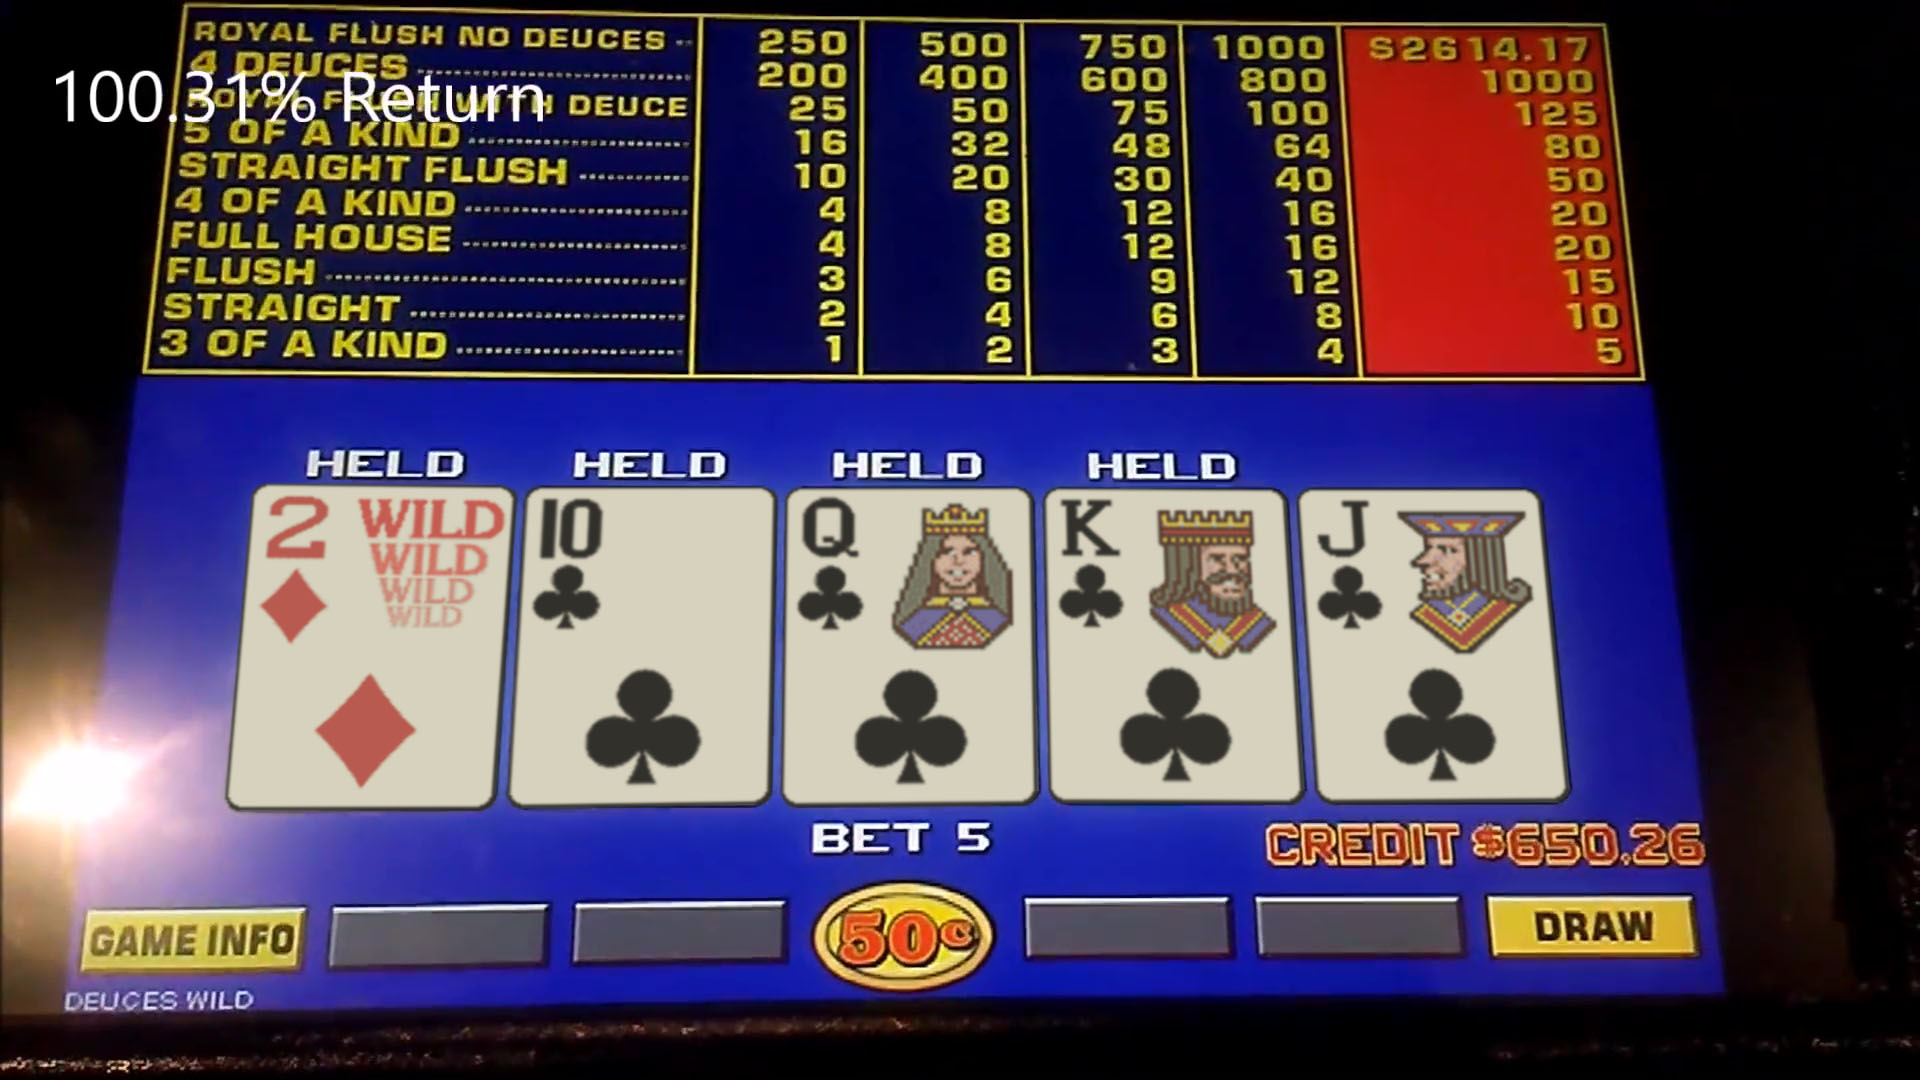CJ: (1313, 492, 1549, 802)
CK: (1048, 492, 1290, 800)
CQ: (786, 489, 1035, 803)
CT: (517, 491, 764, 802)
D2W: (247, 487, 498, 808)
